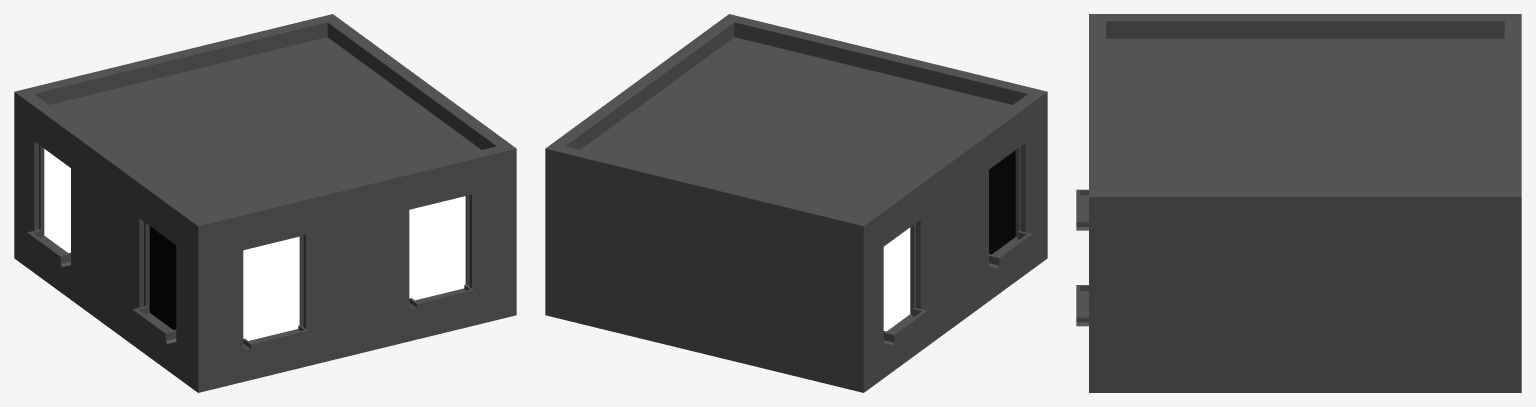
The model's file is immeuble4Haut.fbx.
3 views of the same model, side by side, from view 1: azimuth 30°, elevation 25°; view 2: azimuth 150°, elevation 25°; view 3: azimuth 270°, elevation 25° (orthographic). The views are drawn at different scales.
Parts seen in each view (by area): view 1: Cube.020; view 2: Cube.020; view 3: Cube.020.
Boxes of the visible parts, x1,y1,x2,y2 form: Cube.020: (14, 14, 516, 392); Cube.020: (545, 14, 1047, 392); Cube.020: (1076, 14, 1521, 392).
Size of the model in its own units: 2055 by 1000 by 2058.
